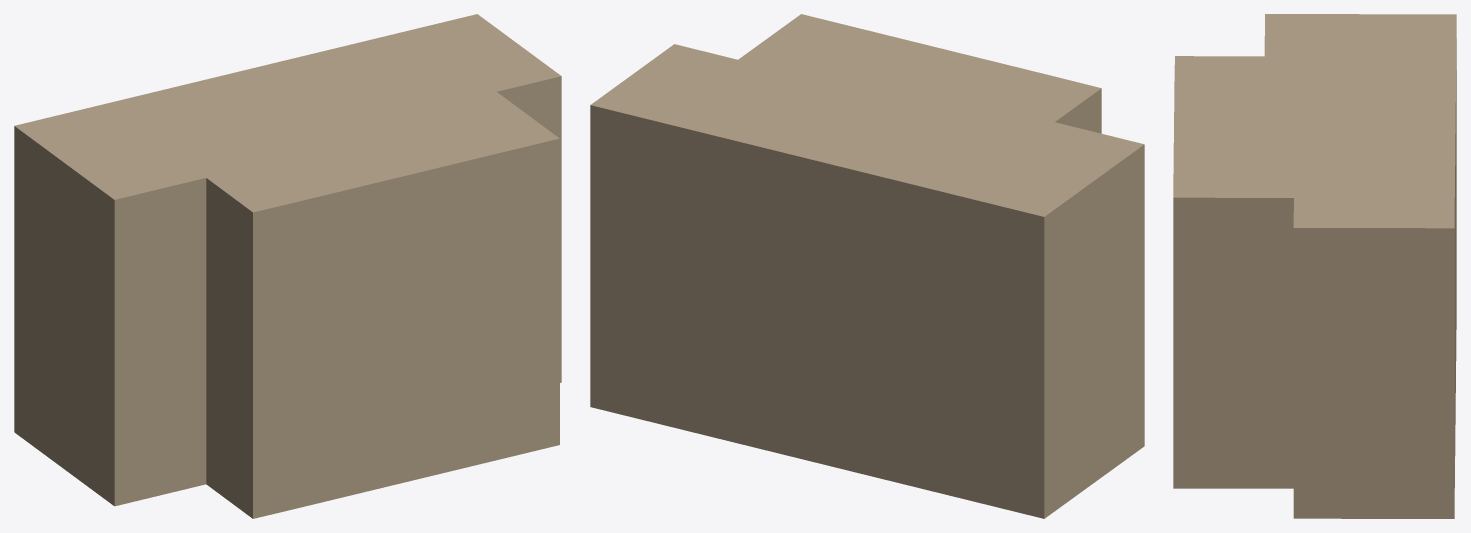
File: bld_101353711.dae
3 renders of one model, left to right at view 1: azimuth 30°, elevation 25°; view 2: azimuth 150°, elevation 25°; view 3: azimuth 270°, elevation 25°, orthographic. The views are drawn at different scales.
Visible parts, largest first — view 1: bld_101353711; view 2: bld_101353711; view 3: bld_101353711.
Part boxes in pixels (x1,y1,x2,y2): bld_101353711: (14,14,561,518); bld_101353711: (590,14,1144,518); bld_101353711: (1173,14,1456,518).
Size of the model in its own units: 12.64 by 7.07 by 8.
